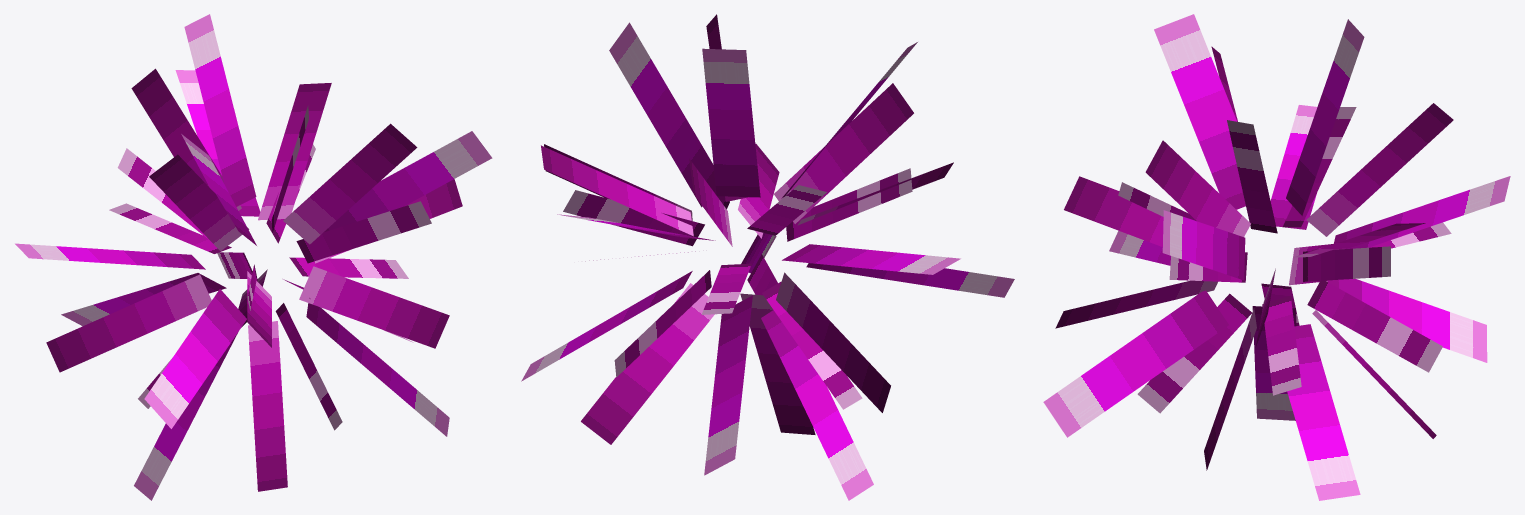
File: effect.fbx
3 renders of one model, left to right at view 1: azimuth 30°, elevation 25°; view 2: azimuth 150°, elevation 25°; view 3: azimuth 270°, elevation 25°, orthographic. The views are drawn at different scales.
Visible parts, largest first — view 1: SubModel0; view 2: SubModel0; view 3: SubModel0.
Boxes of the visible parts, <box> form: SubModel0: <box>15,14,492,500</box>; SubModel0: <box>521,14,1014,500</box>; SubModel0: <box>1043,14,1510,500</box>.
Size of the model in its own units: 300 by 294 by 283.
